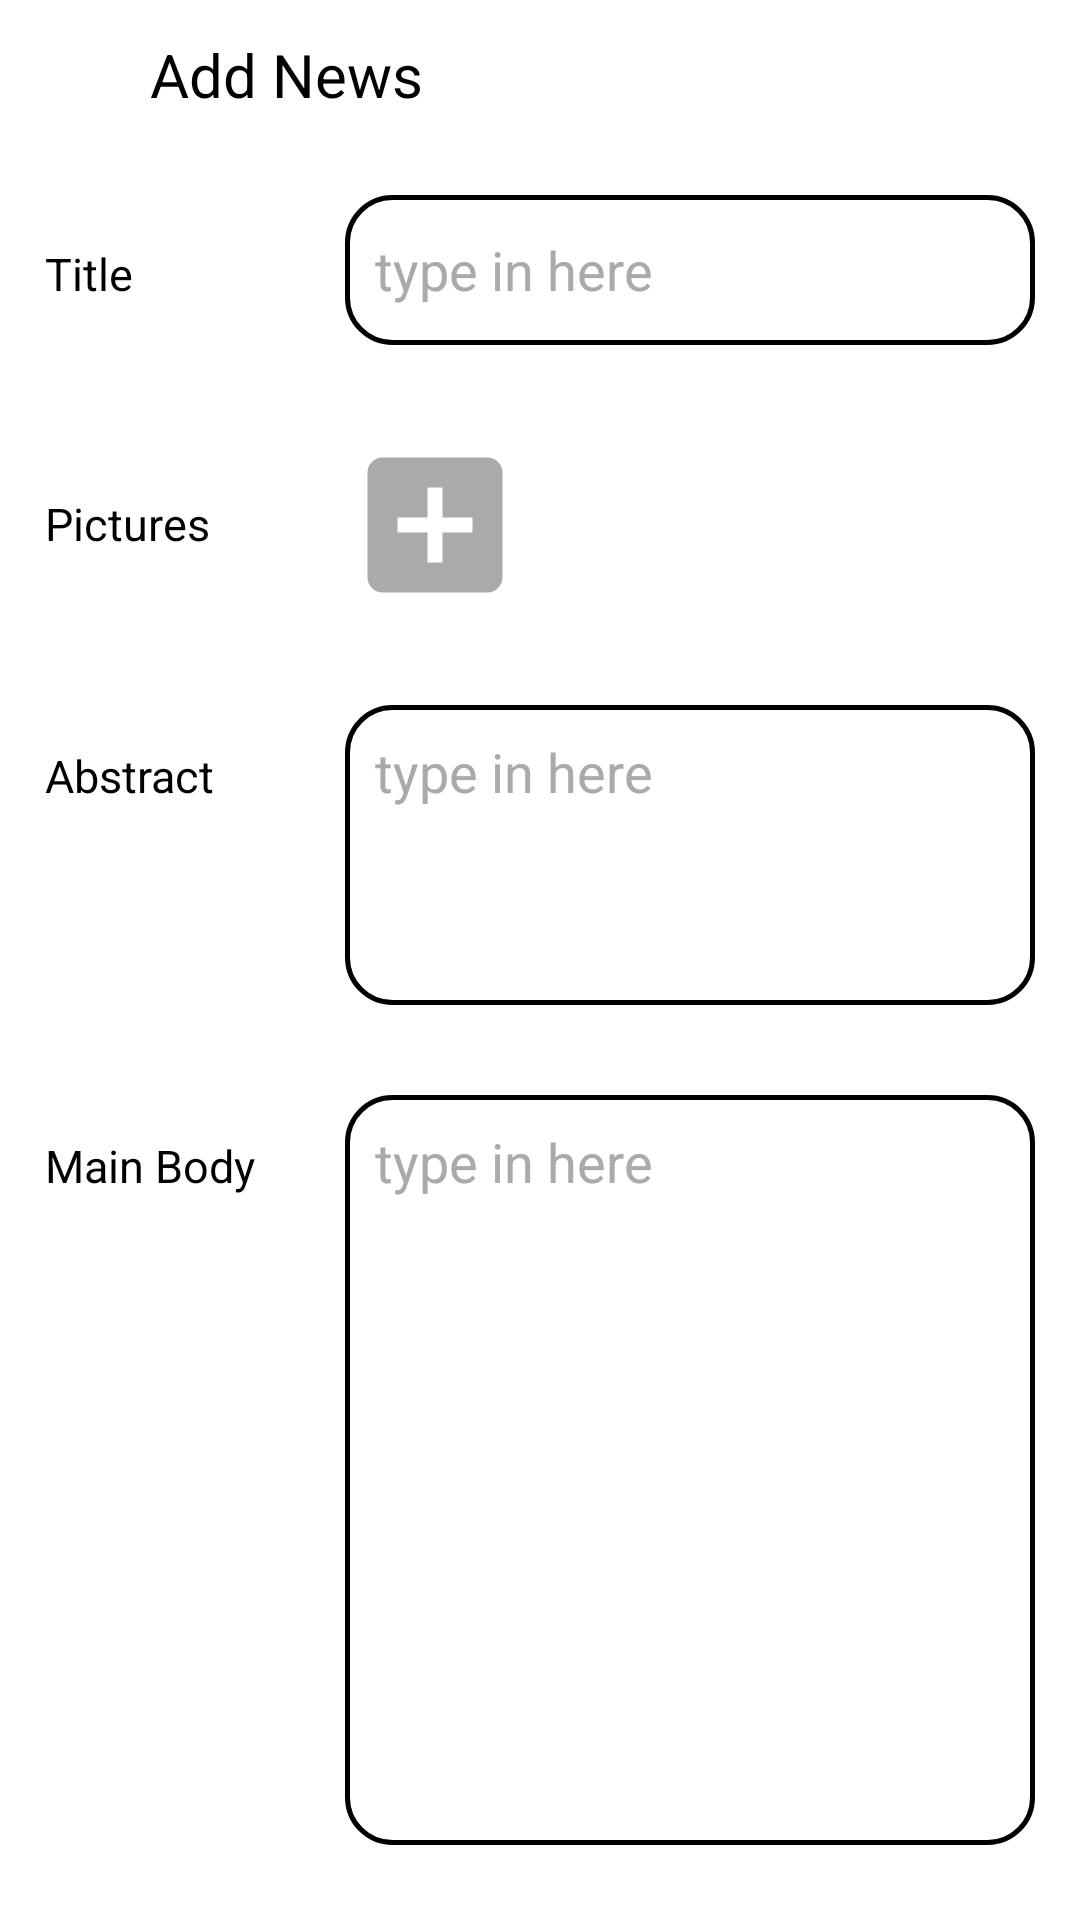

Named icons in this screenshot (1080×1920) and their bounding boxes, (x1, y1, x2, y2):
add box: (367, 457, 503, 593)
